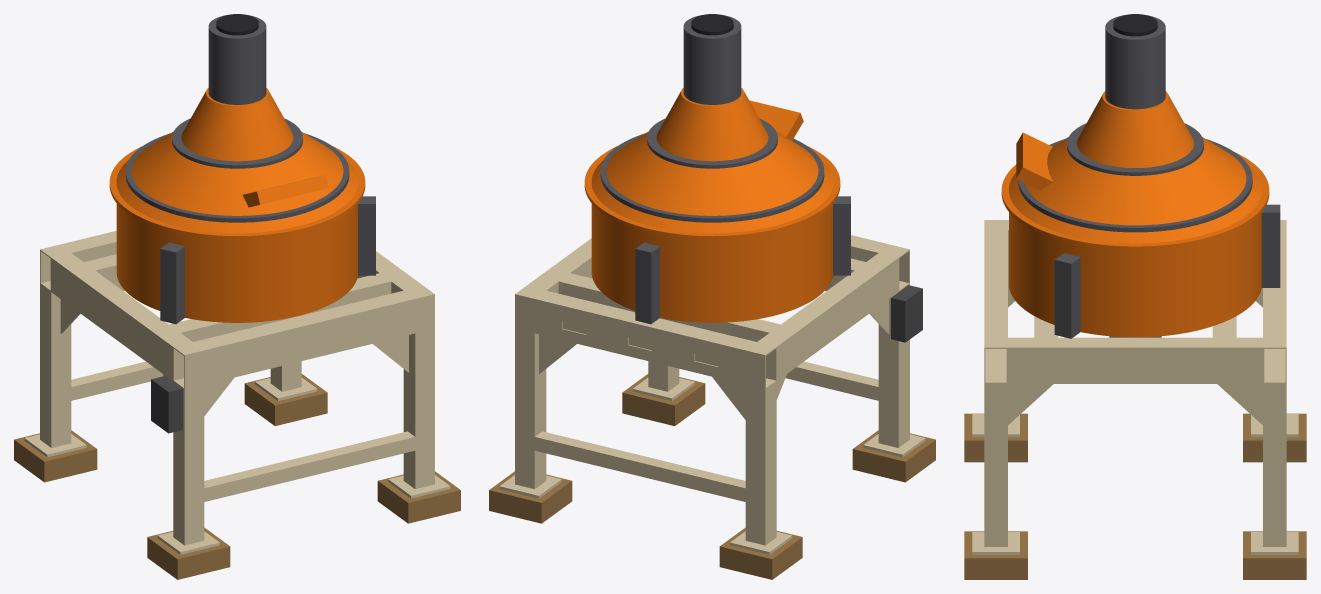
File: Planetary_Mixer_on_Stand.glb
3 views of the same model, side by side, from view 1: azimuth 30°, elevation 25°; view 2: azimuth 150°, elevation 25°; view 3: azimuth 270°, elevation 25° (orthographic). The views are drawn at different scales.
Parts seen in each view (by area): view 1: pan_80c267, cover_92bee8, top_beam_x_-1_d52d67, gearbox_f5c577, top_beam_y_-1_45f00e, motor_0280e3, leg_3_095b32, leg_1_366ba2, lower_tie_-1_027da1, top_beam_x_-1_da8597, leg_2_74c430, top_beam_y_-1_ab624b (+31 smaller); view 2: pan_80c267, cover_92bee8, top_beam_x_1_4c92f2, gearbox_f5c577, top_beam_y_-1_45f00e, motor_0280e3, leg_2_7c4b9c, leg_0_da6f7d, lower_tie_1_b46697, top_beam_x_1_fa9de3, top_beam_y_-1_ab624b, leg_3_f21d58 (+33 smaller); view 3: pan_80c267, cover_92bee8, top_beam_y_1_cf244f, gearbox_f5c577, motor_0280e3, leg_1_66d312, leg_0_263d1e, top_beam_x_-1_da8597, top_beam_y_1_70cad5, top_beam_x_1_fa9de3, rim_fd4cf6, supports_e2c72d (+26 smaller).
Part boxes in pixels (x1,y1,x2,y2): pan_80c267: (116,203,357,322); cover_92bee8: (116,131,358,233); top_beam_x_-1_d52d67: (184,294,434,389); gearbox_f5c577: (181,91,293,161); top_beam_y_-1_45f00e: (51,258,173,380); motor_0280e3: (208,28,266,104); leg_3_095b32: (184,385,204,545); leg_1_366ba2: (415,328,434,488); lower_tie_-1_027da1: (204,437,415,501); top_beam_x_-1_da8597: (173,286,434,355); leg_2_74c430: (51,292,71,447); top_beam_y_-1_ab624b: (51,253,192,346); pan_80c267: (591,203,832,322); cover_92bee8: (591,131,833,233); top_beam_x_1_4c92f2: (515,294,765,389); gearbox_f5c577: (656,91,768,161); top_beam_y_-1_45f00e: (776,258,898,380); motor_0280e3: (683,28,741,104); leg_2_7c4b9c: (745,385,765,545); leg_0_da6f7d: (515,328,534,488); lower_tie_1_b46697: (534,437,745,501); top_beam_x_1_fa9de3: (515,286,776,355); top_beam_y_-1_ab624b: (757,253,898,346); leg_3_f21d58: (878,298,898,447); pan_80c267: (1009,212,1261,337); cover_92bee8: (1009,137,1261,243); top_beam_y_1_cf244f: (1008,347,1262,383); gearbox_f5c577: (1077,94,1193,167); motor_0280e3: (1105,29,1165,109); leg_1_66d312: (984,384,1007,546); leg_0_263d1e: (1263,384,1286,546); top_beam_x_-1_da8597: (984,220,1007,347); top_beam_y_1_70cad5: (1008,337,1262,347); top_beam_x_1_fa9de3: (1263,220,1286,347); rim_fd4cf6: (1001,152,1269,246); supports_e2c72d: (1261,212,1280,287).
Bounding box in the file's own units: 2.15 × 3.35 × 2.15.
